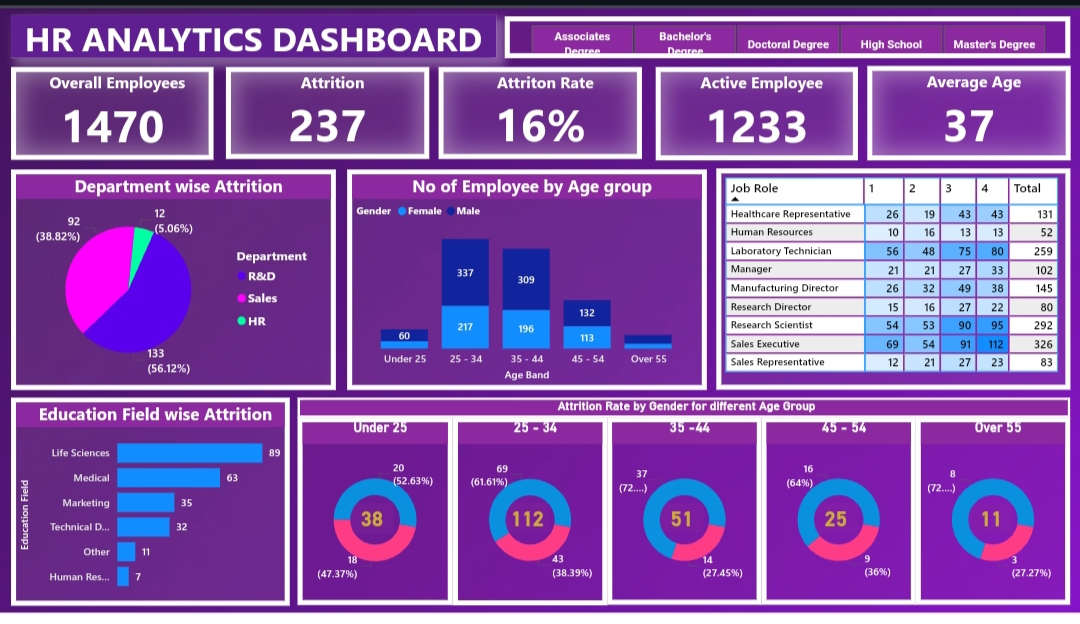

What the dashboard file says about the page in this screenshot:
{"tool":"powerbi","page":{"name":"Page 1","canvas":[1280,720],"ordinal":0},"visuals":[{"type":"donutChart","title":"Department wise Attrition","fields":{"Category":["Sheet1.Department"],"Y":["CountNonNull(Sheet1.Attrition)"]},"box":[438.3,483.8,401.9,212.3],"z":5},{"type":"columnChart","title":"No. of Employees by Age Group","fields":{"Series":["Sheet1.Gender"],"Y":["Sum(Sheet1.EmployeeCount)"],"Category":["Sheet1.AgeGroup"]},"box":[285.1,204.7,404.9,265.4],"z":6},{"type":"tableEx","fields":{"Values":["Sheet1.JobRole","Sum(Sheet1.EmployeeCount)","Sheet1.Attrition"]},"box":[703.7,204.7,412.5,265.4],"z":7},{"type":"clusteredBarChart","title":"Education Field wise Attrition","fields":{"Category":["Sheet1.EducationField"],"Y":["Sheet1.Attrition"]},"box":[12.1,483.8,401.9,212.3],"z":8},{"type":"clusteredBarChart","title":"Work Life Balance wise Attrition","fields":{"Category":["Sheet1.WorkLifeBalance_Label"],"Y":["Sheet1.Attrition"]},"box":[862.9,483.8,401.9,212.3],"z":9},{"type":"slicer","fields":{"Values":["MonthTable.Month"]},"box":[1132.9,34.9,131.9,435.3],"z":10},{"type":"pieChart","title":"Gender wise Attrition","fields":{"Category":["Sheet1.Gender"],"Y":["Sheet1.Attrition"]},"box":[12.1,204.7,259.3,265.4],"z":11},{"type":"card","fields":{"Values":["Sheet1.Total Employees"]},"box":[180.5,34.9,182,156.2],"z":12},{"type":"card","fields":{"Values":["Sheet1.Attrition"]},"box":[374.6,34.9,182,156.2],"z":13},{"type":"card","fields":{"Values":["Sheet1.Attrition Rate (%)"]},"box":[573.3,34.9,182,156.2],"z":14},{"type":"card","fields":{"Values":["Sheet1.Active Employees"]},"box":[767.4,34.9,166.8,156.2],"z":15},{"type":"card","fields":{"Values":["Sheet1.Average Age"]},"box":[946.4,34.9,169.9,156.2],"z":16},{"type":"textbox","title":"HR Attrition Dashboard","box":[12.1,59.1,151.7,107.7],"z":17}]}

Visuals, with their boxes in screenshot pixels (x1, y1, x2, y2), scaled from the page's 1280x720 canvas onto the 1080x624 screenshot:
"Department wise Attrition" donutChart: (left=370, top=419, right=709, bottom=603)
"No. of Employees by Age Group" columnChart: (left=241, top=177, right=582, bottom=407)
tableEx - Sheet1.JobRole x Sum(Sheet1.EmployeeCount): (left=594, top=177, right=942, bottom=407)
"Education Field wise Attrition" clusteredBarChart: (left=10, top=419, right=349, bottom=603)
"Work Life Balance wise Attrition" clusteredBarChart: (left=728, top=419, right=1067, bottom=603)
slicer - MonthTable.Month: (left=956, top=30, right=1067, bottom=408)
"Gender wise Attrition" pieChart: (left=10, top=177, right=229, bottom=407)
card - Sheet1.Total Employees: (left=152, top=30, right=306, bottom=166)
card - Sheet1.Attrition: (left=316, top=30, right=470, bottom=166)
card - Sheet1.Attrition Rate (%): (left=484, top=30, right=637, bottom=166)
card - Sheet1.Active Employees: (left=647, top=30, right=788, bottom=166)
card - Sheet1.Average Age: (left=799, top=30, right=942, bottom=166)
"HR Attrition Dashboard" textbox: (left=10, top=51, right=138, bottom=145)
